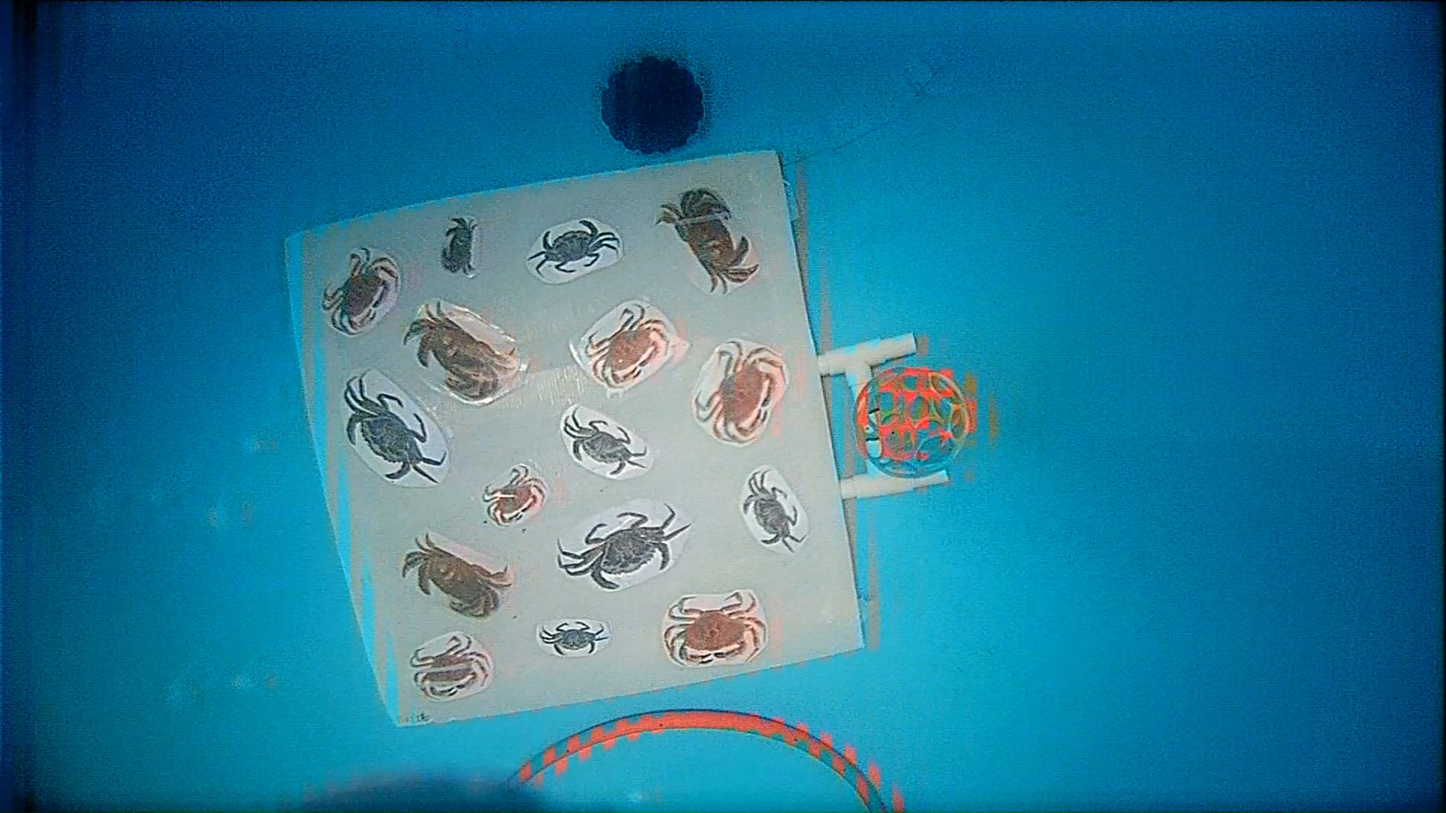GreenCrab: (343, 376, 445, 483), (559, 506, 690, 589), (528, 220, 620, 273), (743, 472, 803, 552), (563, 415, 643, 474), (540, 622, 607, 653)
